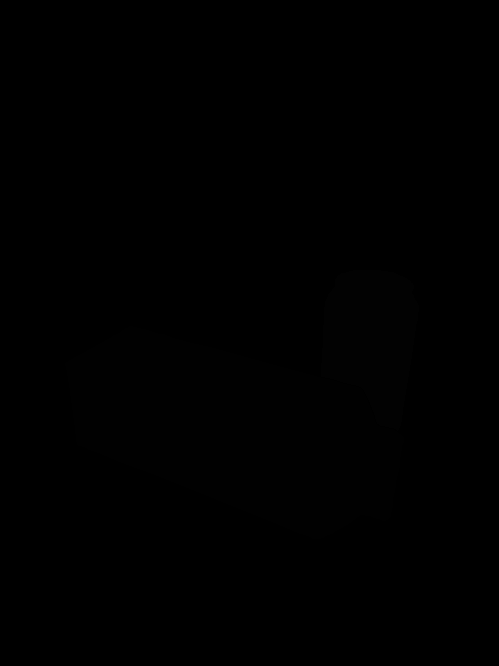can: (320, 268, 421, 449)
carton: (62, 323, 405, 544)
